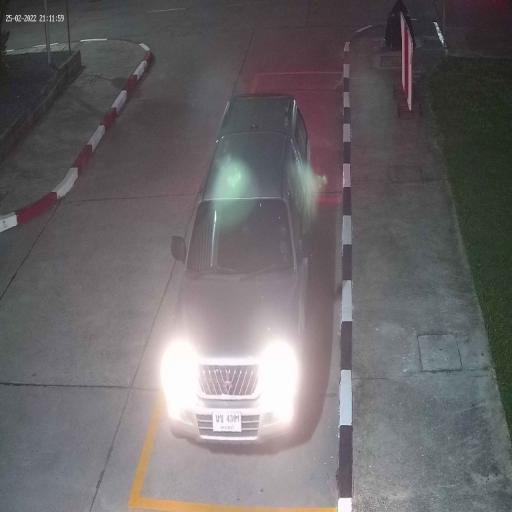car: (166, 90, 314, 450)
